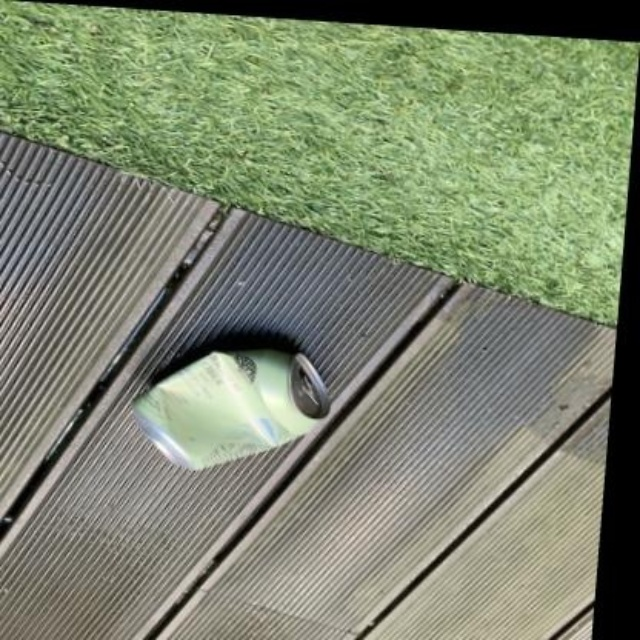trash: (132, 349, 328, 468)
